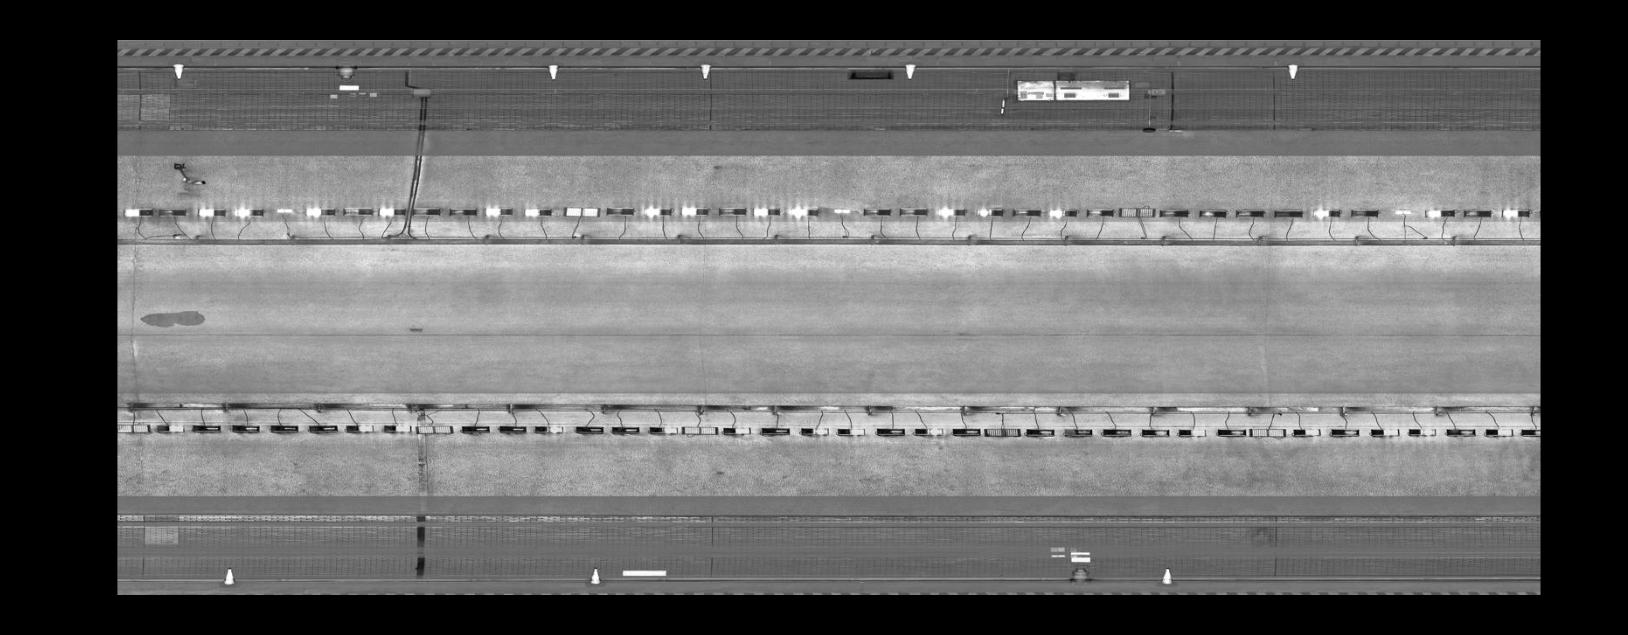light: (561, 203, 603, 220), (412, 421, 456, 436), (787, 202, 822, 220), (1117, 204, 1157, 220), (1246, 424, 1287, 439), (481, 203, 516, 220), (518, 203, 553, 220), (641, 202, 676, 219), (980, 424, 1023, 438), (679, 423, 720, 437), (118, 420, 153, 436), (1288, 424, 1325, 439), (230, 205, 266, 220), (375, 202, 410, 217), (1098, 424, 1134, 439), (1155, 206, 1192, 220), (1194, 206, 1231, 220), (1421, 205, 1459, 219), (749, 204, 783, 219), (1061, 425, 1095, 440), (1482, 425, 1518, 439), (604, 203, 637, 218), (715, 203, 749, 218), (1174, 424, 1208, 439), (1271, 206, 1306, 220), (1308, 206, 1344, 220), (1346, 206, 1381, 220), (720, 422, 755, 436), (758, 423, 793, 437), (1443, 425, 1478, 439), (1499, 205, 1531, 220), (151, 421, 188, 434), (910, 424, 947, 437), (1233, 206, 1268, 220), (1461, 206, 1495, 220), (343, 421, 377, 435), (797, 423, 832, 437), (1214, 425, 1248, 439), (1367, 424, 1402, 438), (303, 204, 340, 217), (188, 421, 224, 434), (266, 421, 302, 434), (458, 422, 494, 435), (531, 422, 567, 435), (572, 422, 608, 435), (1046, 206, 1079, 220), (1083, 205, 1116, 219), (306, 421, 340, 435), (340, 203, 375, 216), (935, 205, 968, 219), (1329, 425, 1361, 439), (495, 422, 530, 435), (1405, 425, 1439, 438), (679, 204, 710, 218), (1139, 425, 1170, 439), (860, 205, 893, 218), (897, 205, 930, 218), (380, 421, 413, 434), (154, 206, 189, 218), (194, 206, 229, 218), (833, 425, 868, 437), (873, 425, 908, 437), (229, 421, 262, 434), (120, 206, 155, 218), (1010, 206, 1044, 218), (949, 425, 983, 437), (974, 205, 1005, 218), (446, 205, 480, 217), (647, 423, 680, 435), (1023, 426, 1059, 437), (609, 423, 642, 435), (410, 206, 445, 217), (1519, 424, 1540, 436), (1391, 206, 1415, 216), (831, 206, 853, 214), (272, 205, 295, 212)
